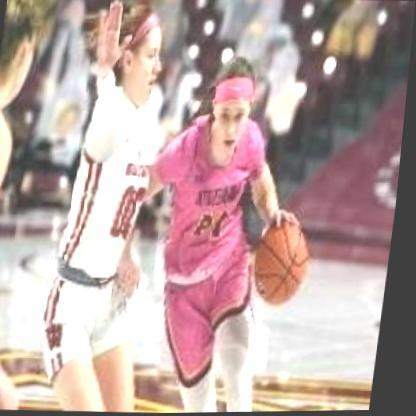basketball: (254, 216, 321, 308)
